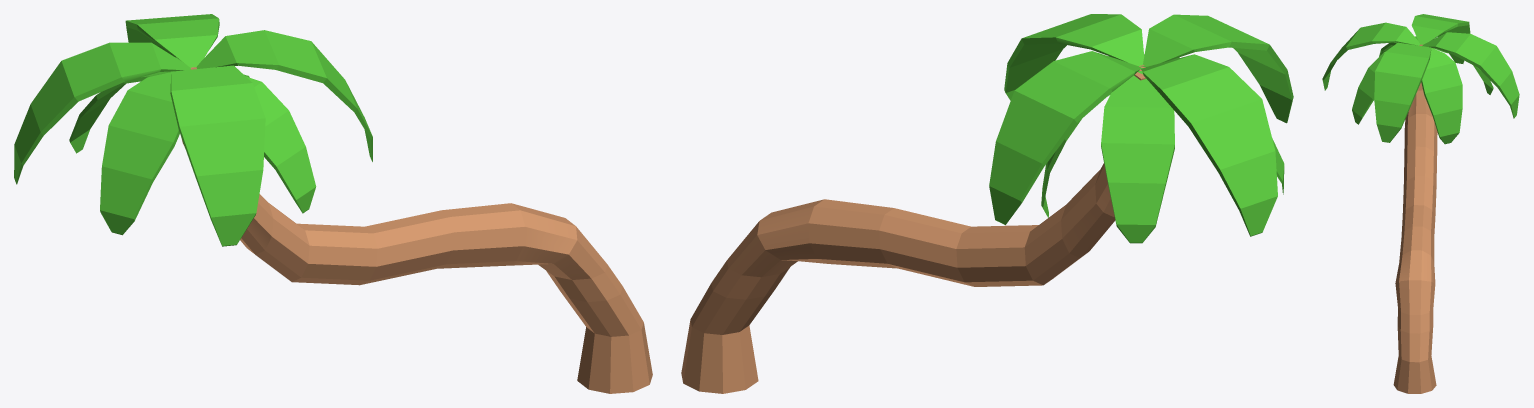
Rendered from Palmera5.fbx.
The picture shows the model from 3 angles, left to right: view 1: azimuth 30°, elevation 25°; view 2: azimuth 150°, elevation 25°; view 3: azimuth 270°, elevation 25°; orthographic projection. The views are drawn at different scales.
Visible parts, largest first — view 1: PALM5; view 2: PALM5; view 3: PALM5.
Part boxes in pixels (x1,y1,x2,y2): PALM5: [14, 14, 652, 393]; PALM5: [681, 14, 1293, 393]; PALM5: [1322, 14, 1519, 393].
Size of the model in its own units: 4.27 by 2.87 by 2.18.
